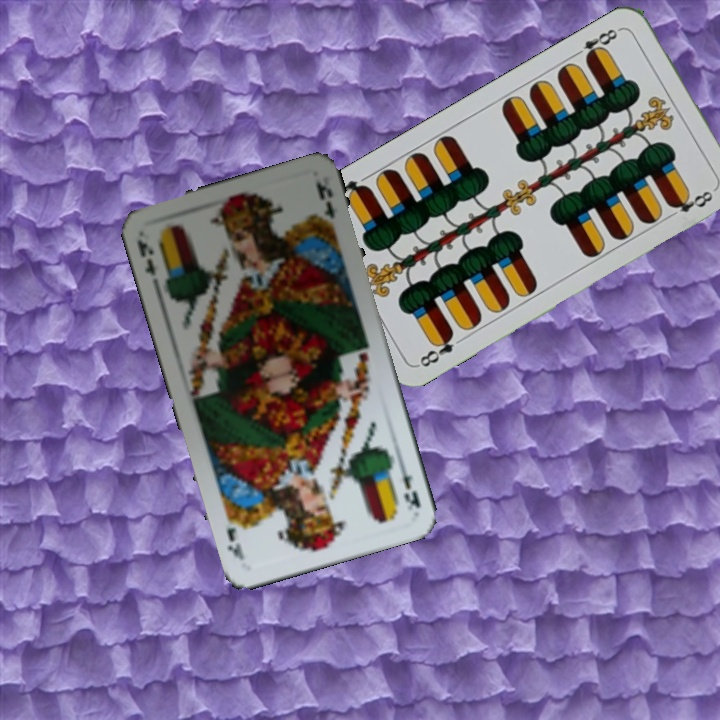E8: (570, 24, 624, 65), (415, 328, 457, 370)
EK: (395, 456, 423, 514), (133, 235, 161, 288)
